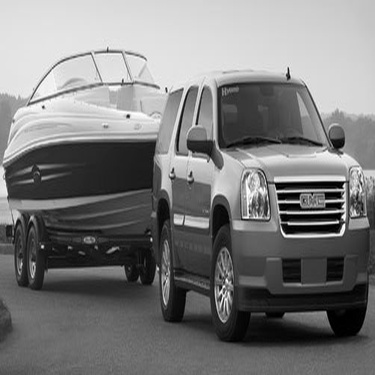car: (139, 56, 374, 347)
